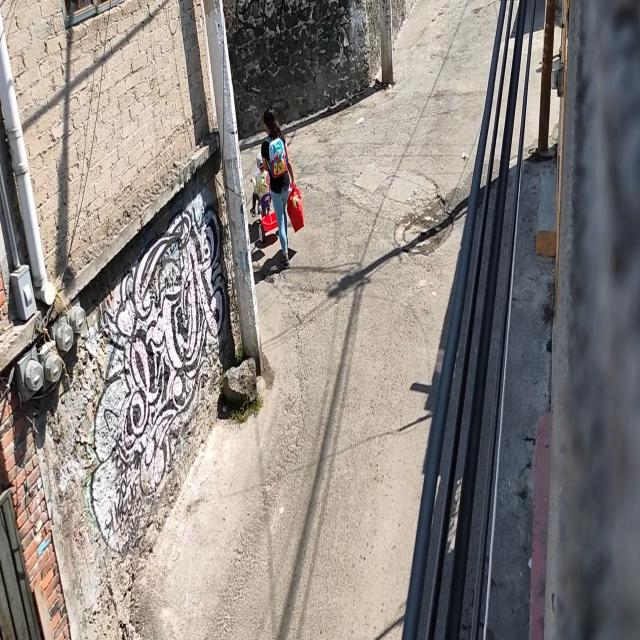adult: (261, 105, 295, 270)
